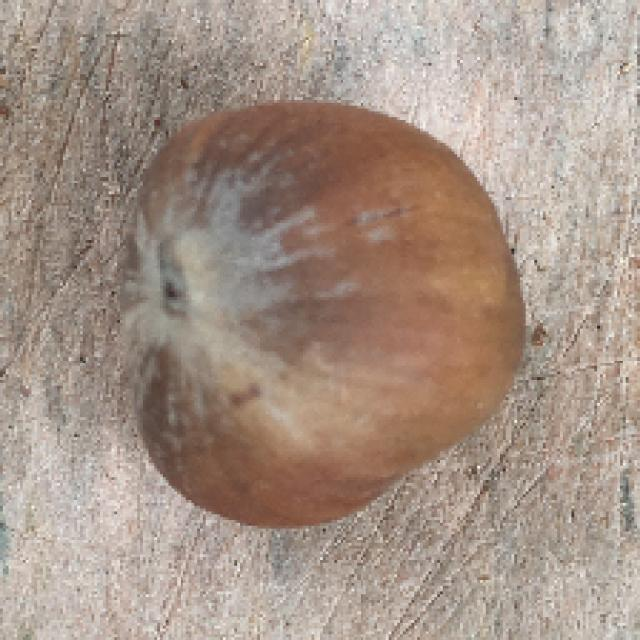qualityHazelnut: (101, 95, 523, 527)
